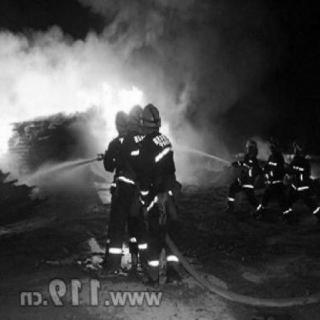Fire: (70, 64, 146, 156), (0, 100, 50, 142)
Smoke: (10, 10, 237, 104)
